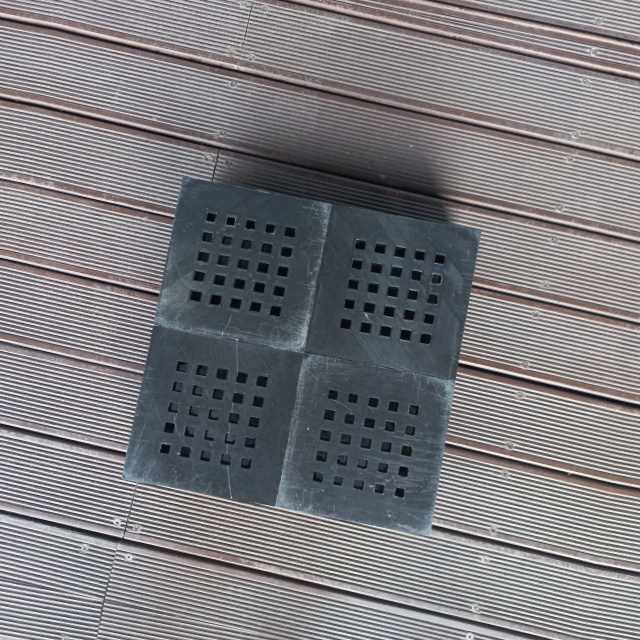pallet: (88, 165, 490, 526)
